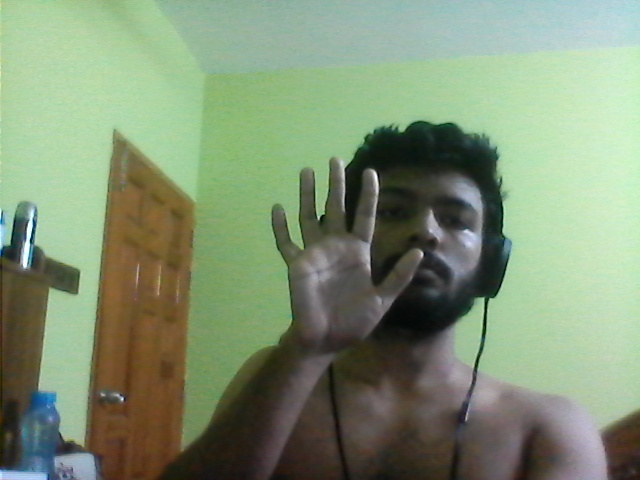Hello: (269, 155, 430, 359)
